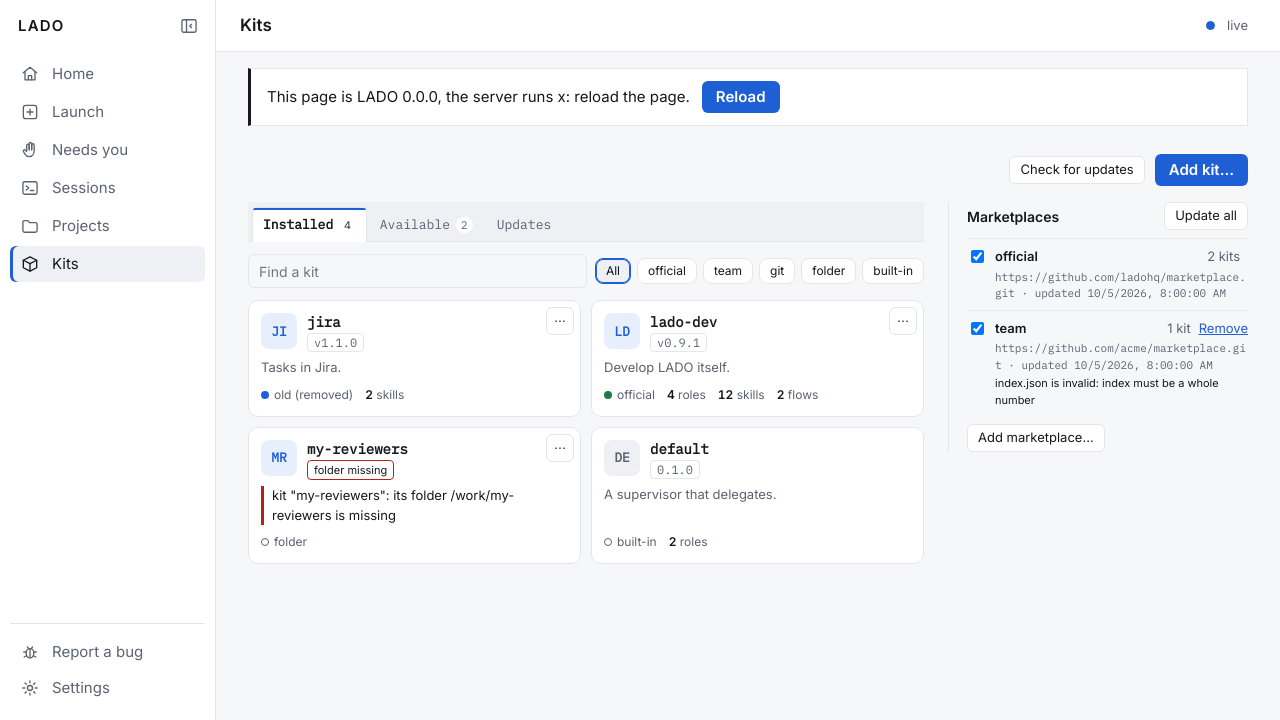
Test: when copying fails, Copy address shows the address selected
The width and height of the screenshot is (1280, 720).
Check: the list item "lado-dev" is shown, box [591,300,924,416]
Click the button named "Actions for lado-dev" at (903, 321), box [889,307,917,335]
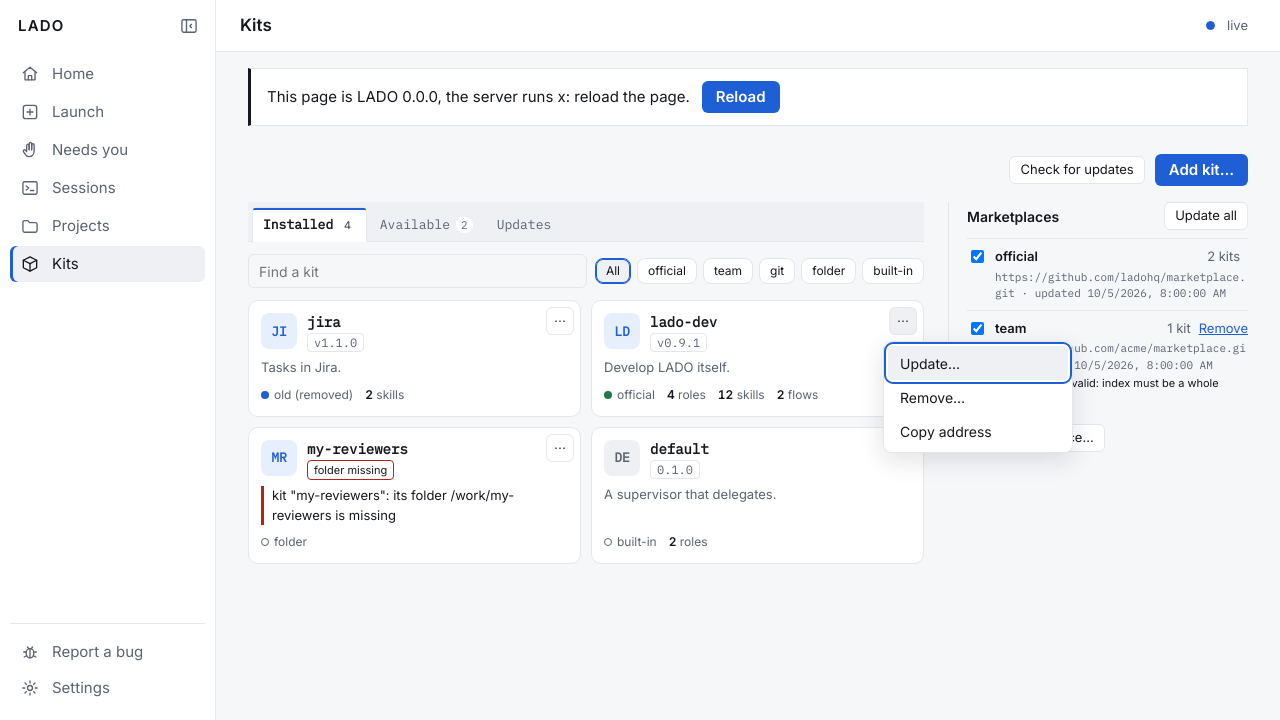
Click the menu item "Copy address" at (978, 431), box [888,414,1068,448]
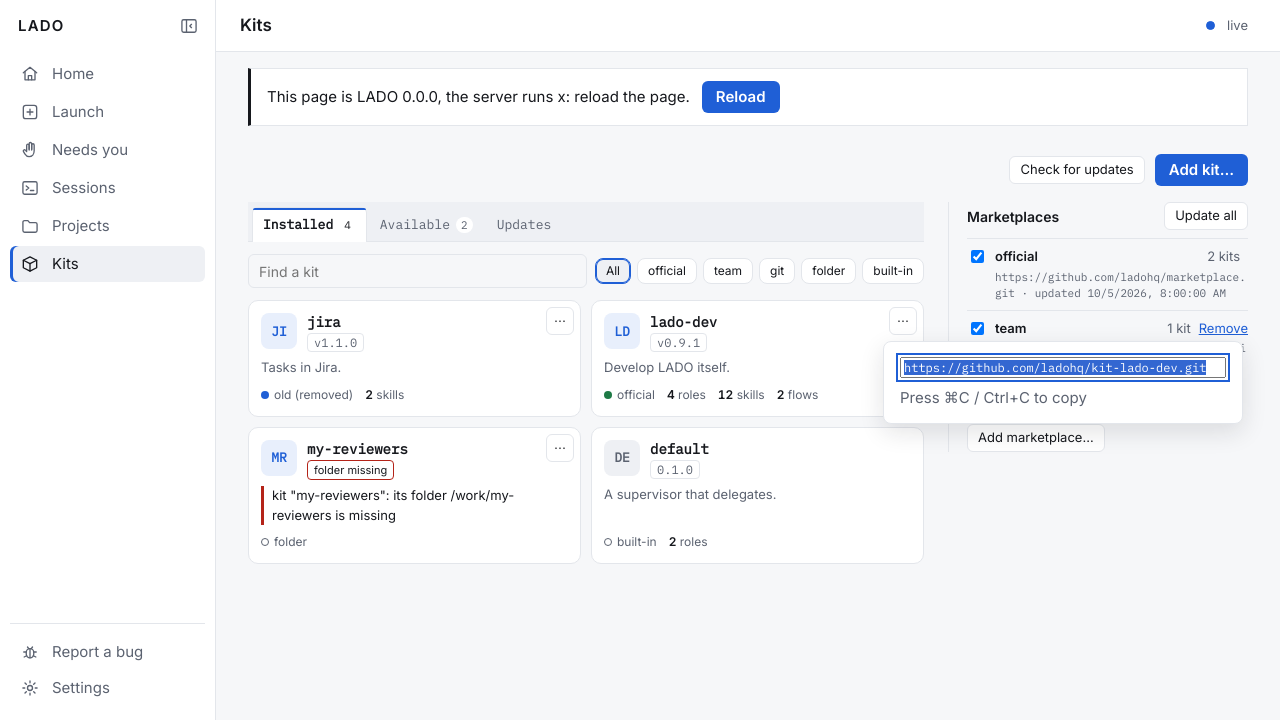
Check: the field named "Address" holds "https://github.com/ladohq/kit-lado-dev.git", box [900,357,1226,378]
